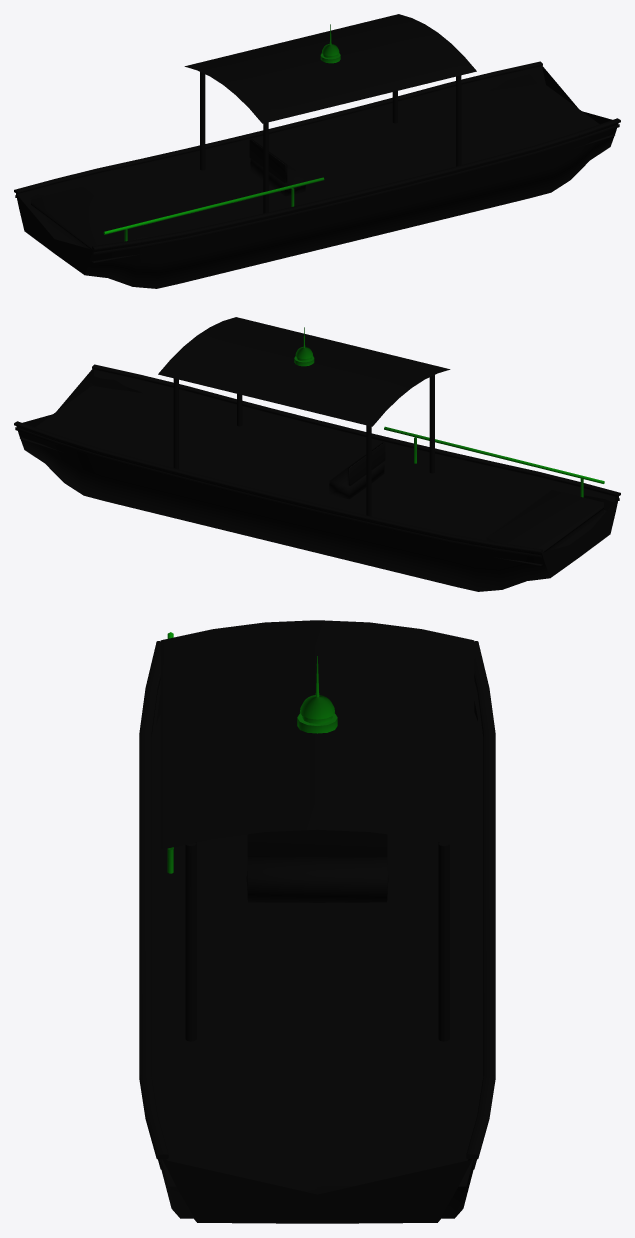
The model's file is white_barge.glb.
3 renders of one model, top to bottom at view 1: azimuth 30°, elevation 25°; view 2: azimuth 150°, elevation 25°; view 3: azimuth 270°, elevation 25°, orthographic. The views are drawn at different scales.
Parts seen in each view (by area): view 1: white_barge; view 2: white_barge; view 3: white_barge.
Part boxes in pixels (x1,y1,x2,y2): white_barge: (14, 14, 620, 288); white_barge: (14, 317, 620, 591); white_barge: (139, 620, 495, 1223).
Size of what is drawn, in the model's own units: 12.01 by 4.08 by 3.52.
